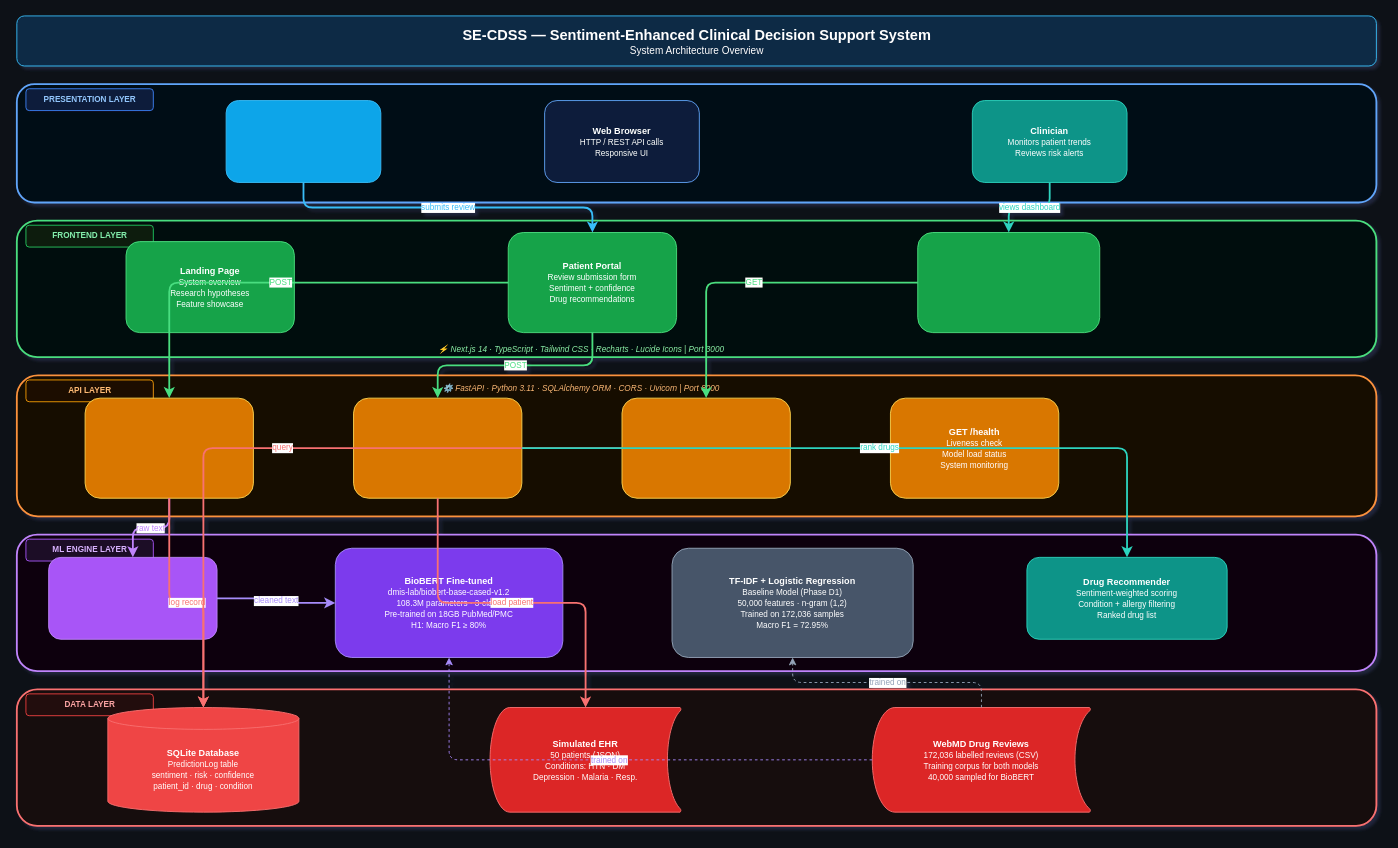
Some shapes in this 1398 by 848 pixel diagram are drawn without their labels. The box of each missing label's shape, as (x1, y1, x2, y2) in pixels:
Clinician Dashboard Patient ID lookup Trend chart (Recharts) Risk monitoring: (917, 232, 1100, 333)
GET /trends Patient history query Time-series data Clinician dashboard: (621, 397, 790, 498)
Patient Submits drug reviews Views predictions: (225, 100, 381, 182)
POST /feedback Sentiment prediction Risk stratification DB logging: (84, 397, 253, 498)
POST /recommend EHR-aware drug ranking Allergy filtering Top-K results: (353, 397, 522, 498)
Text Preprocessor HTML strip · Lowercase Lemmatization · Stopwords: (48, 556, 217, 639)
